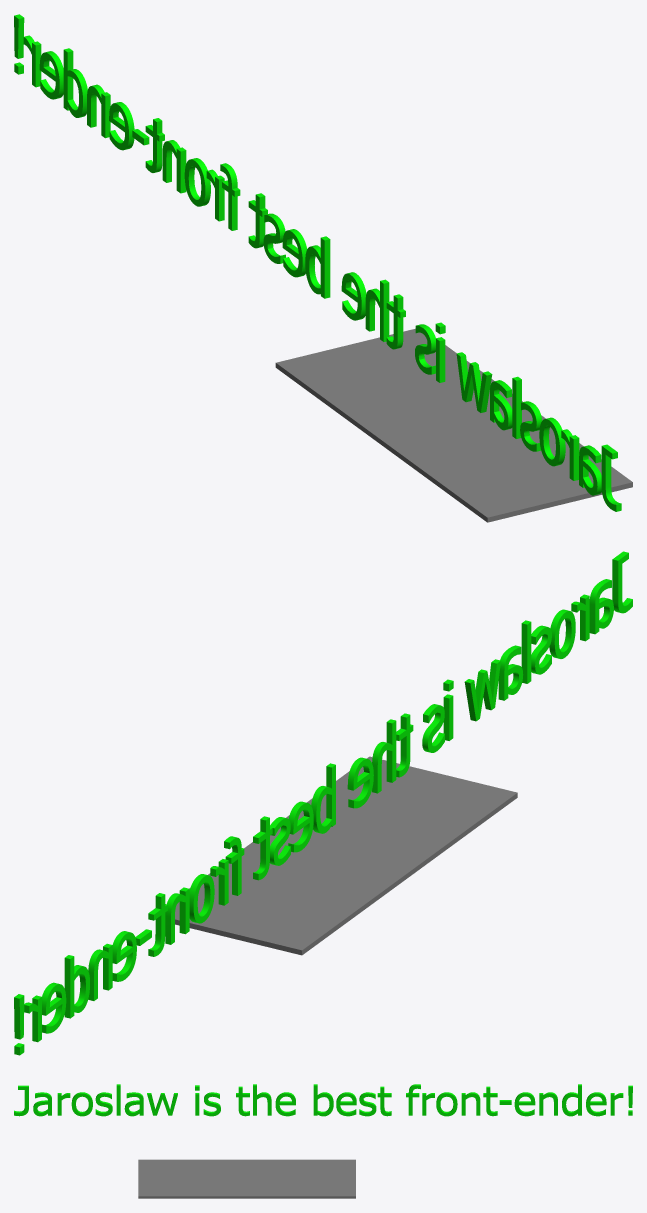
File: testJaro.gltf
3 views of the same model, one above another, from view 1: azimuth 30°, elevation 25°; view 2: azimuth 150°, elevation 25°; view 3: azimuth 270°, elevation 25° (orthographic). The views are drawn at different scales.
Parts seen in each view (by area): view 1: object 1, Jaroslaw is the; view 2: object 1, Jaroslaw is the; view 3: object 1, Jaroslaw is the.
Boxes of the visible parts, box(x1,y1,x2,y2) form: object 1: box(275, 328, 632, 522); Jaroslaw is the: box(14, 14, 621, 511); object 1: box(175, 756, 517, 955); Jaroslaw is the: box(14, 551, 632, 1055); object 1: box(138, 1159, 355, 1198); Jaroslaw is the: box(14, 1084, 632, 1116).
Bounding box in the file's own units: 156 × 160 × 1121.
